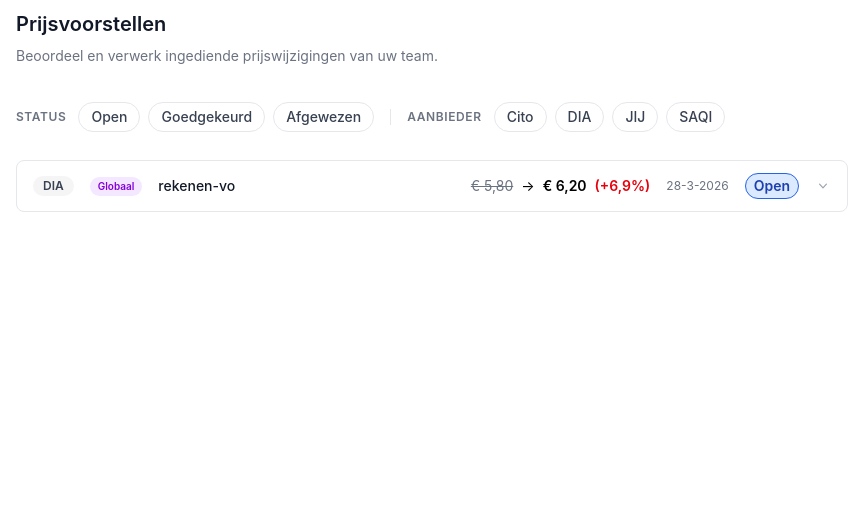
Test: ReviewQueuePage › reject button requires reason text before submission
Expand the proposal row
Step 1. Click the 8th button → {"x": 53, "y": 186}, box [17,161,847,211]
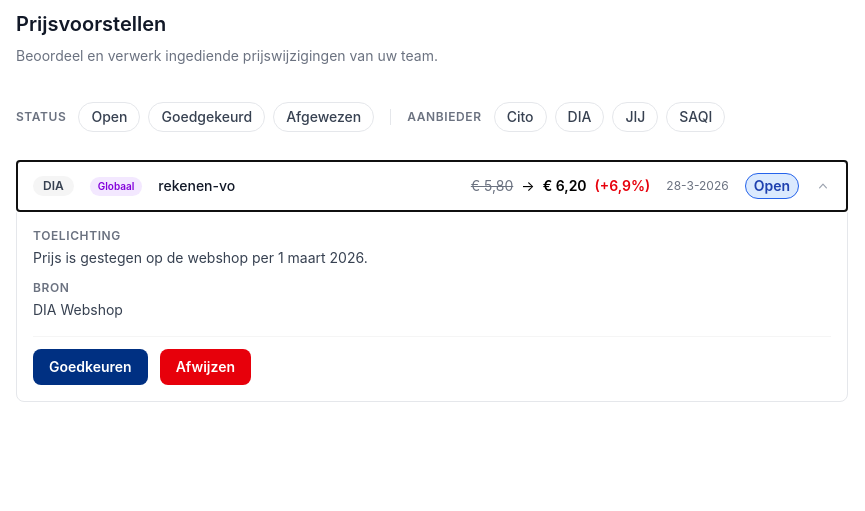
Click reject to show reason input (Afwijzen button is the destructive one in expanded view)
Step 2. Click the button "Afwijzen" → {"x": 205, "y": 367}, box [160,349,251,385]
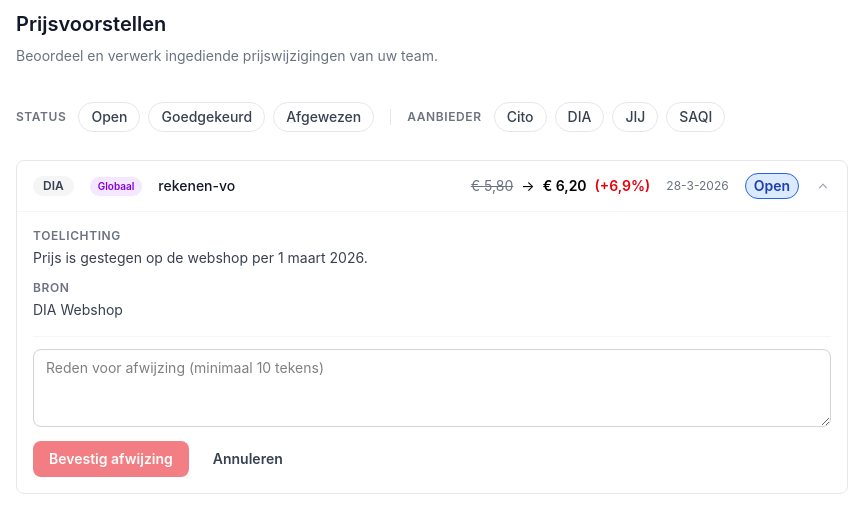
Expected: the text box with placeholder "Reden voor afwijzing (minimaal 10 tekens)" is shown
Type too-short reason
Step 3. Type "kort" into the text box with placeholder "Reden voor afwijzing (minimaal 10 tekens)" → {"x": 432, "y": 388}, box [33,349,831,427]
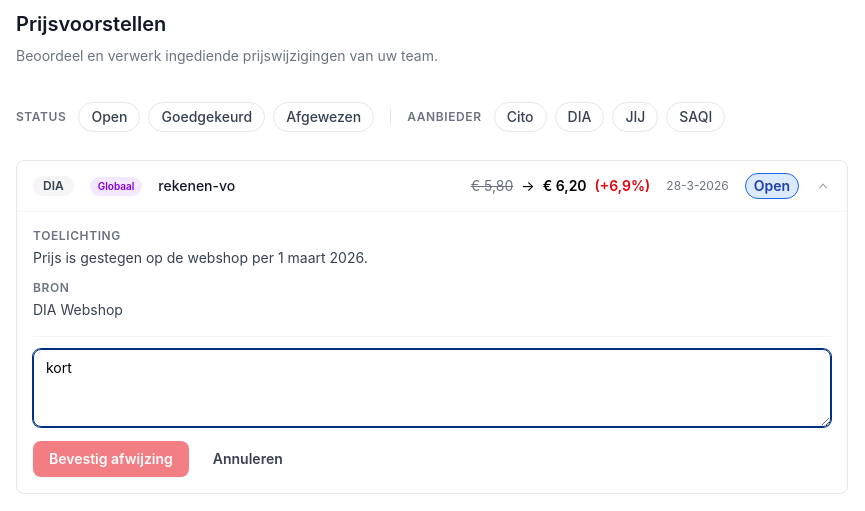
Expected: the button "Bevestig afwijzing" is disabled, [33,441,189,477]
Type sufficient reason
Step 4. Replace the text in the text box with placeholder "Reden voor afwijzing (minimaal 10 tekens)" with "Deze prijs is niet correct onderbouwd met bewijs." → {"x": 432, "y": 388}, box [33,349,831,427]
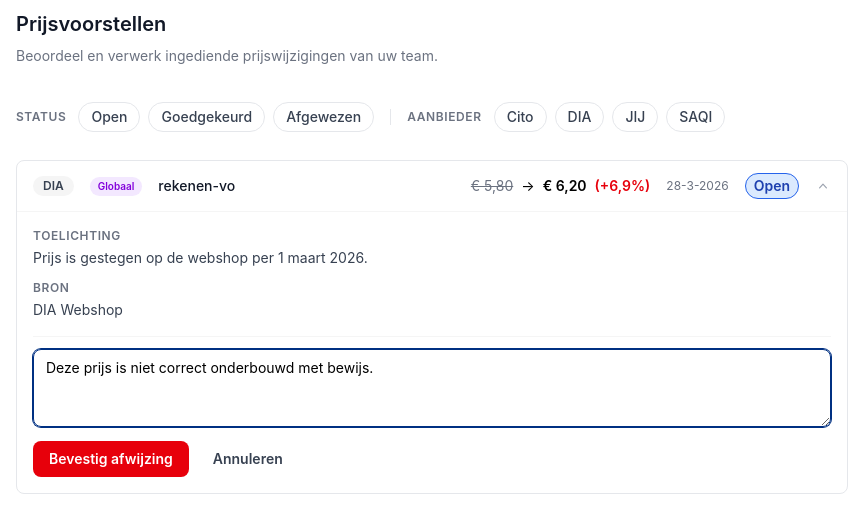
Expected: the button "Bevestig afwijzing" is enabled, [33,441,189,477]
